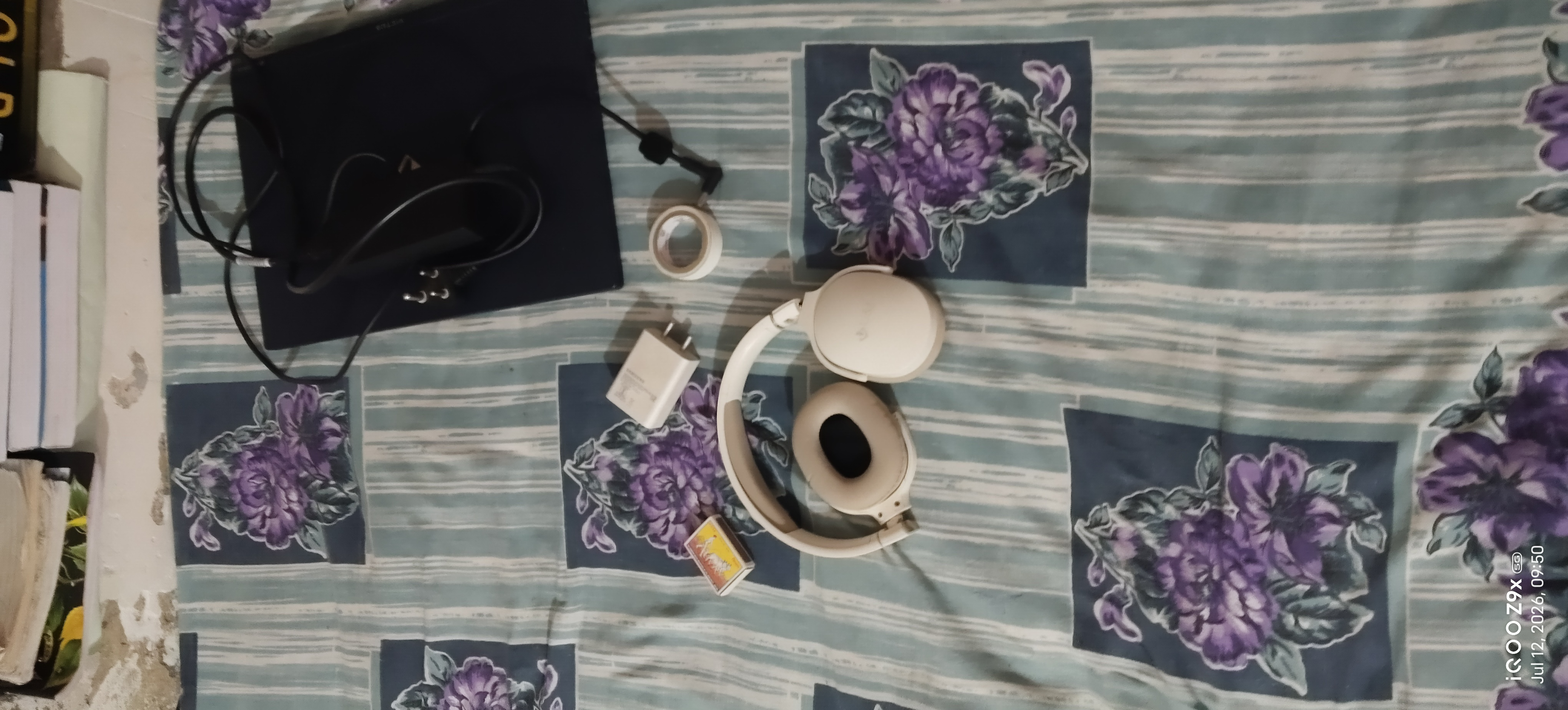charger: (591, 303, 707, 445)
matchbox: (675, 502, 761, 608)
tape_roll: (642, 188, 734, 291)
